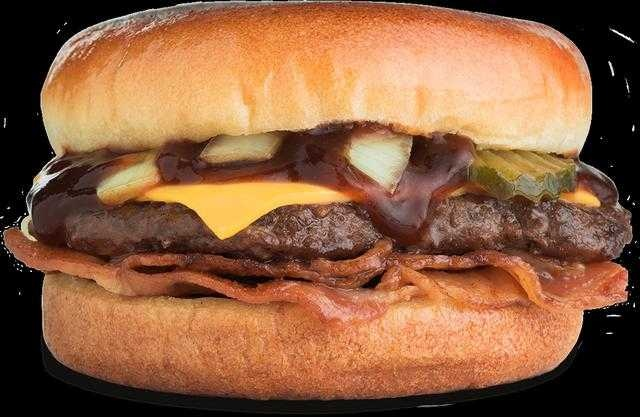hamburger: (29, 12, 622, 392)
